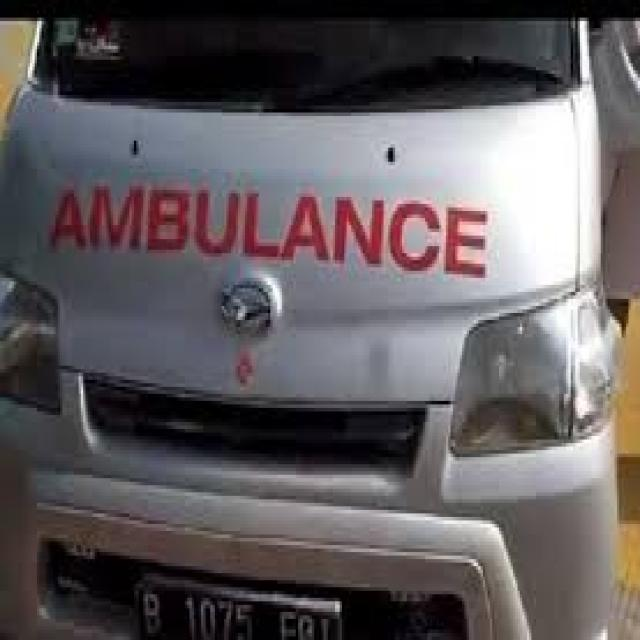emergency-vehicle: (0, 0, 617, 636)
